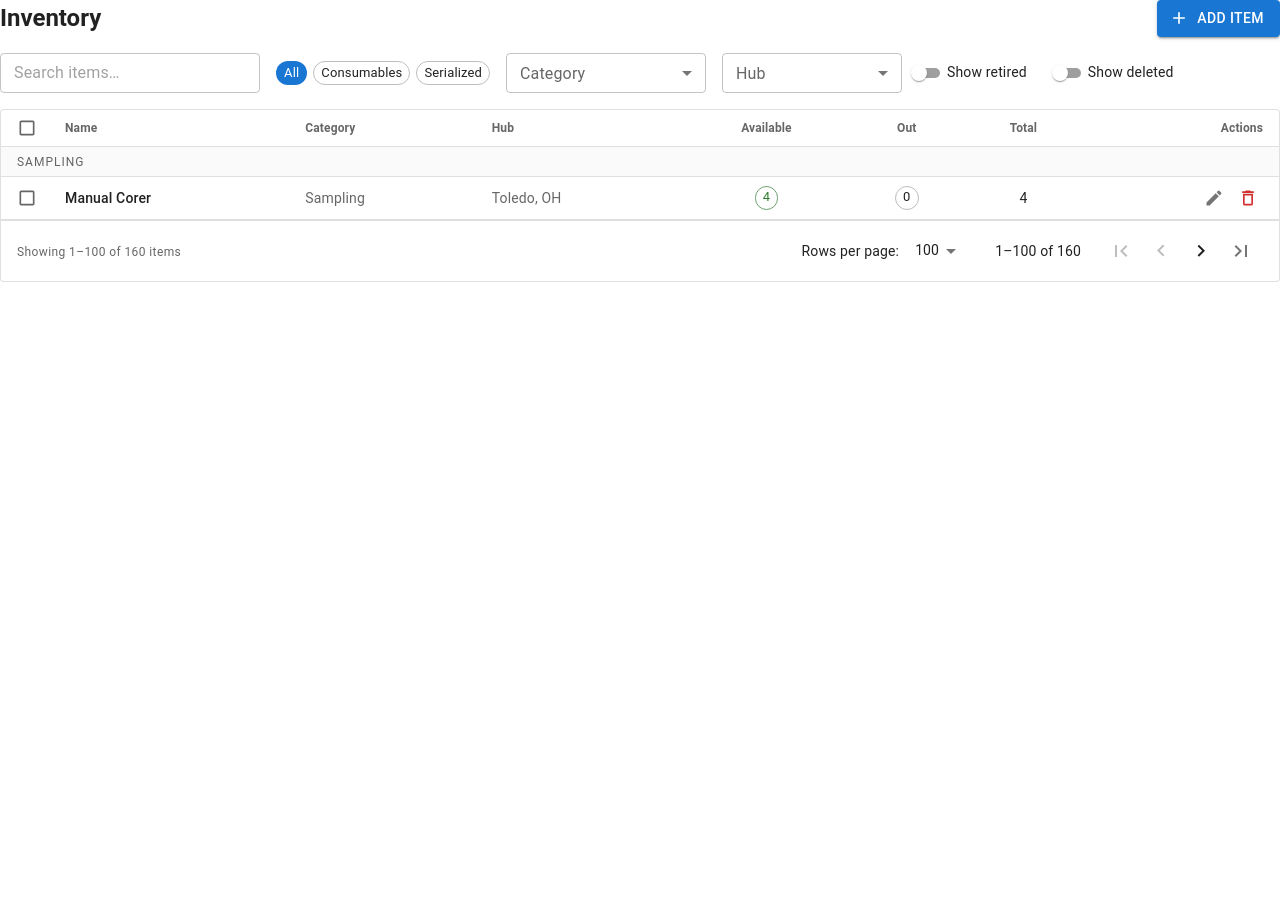
Test: PR-1a · Inventory list truth › clears the pin on the next search — it does not sit atop a list it is not in
Check: the text "Manual Corer" is shown, box [65,188,151,208]
Click the button "Add Item".
click(1219, 18)  # box [1157,0,1279,36]
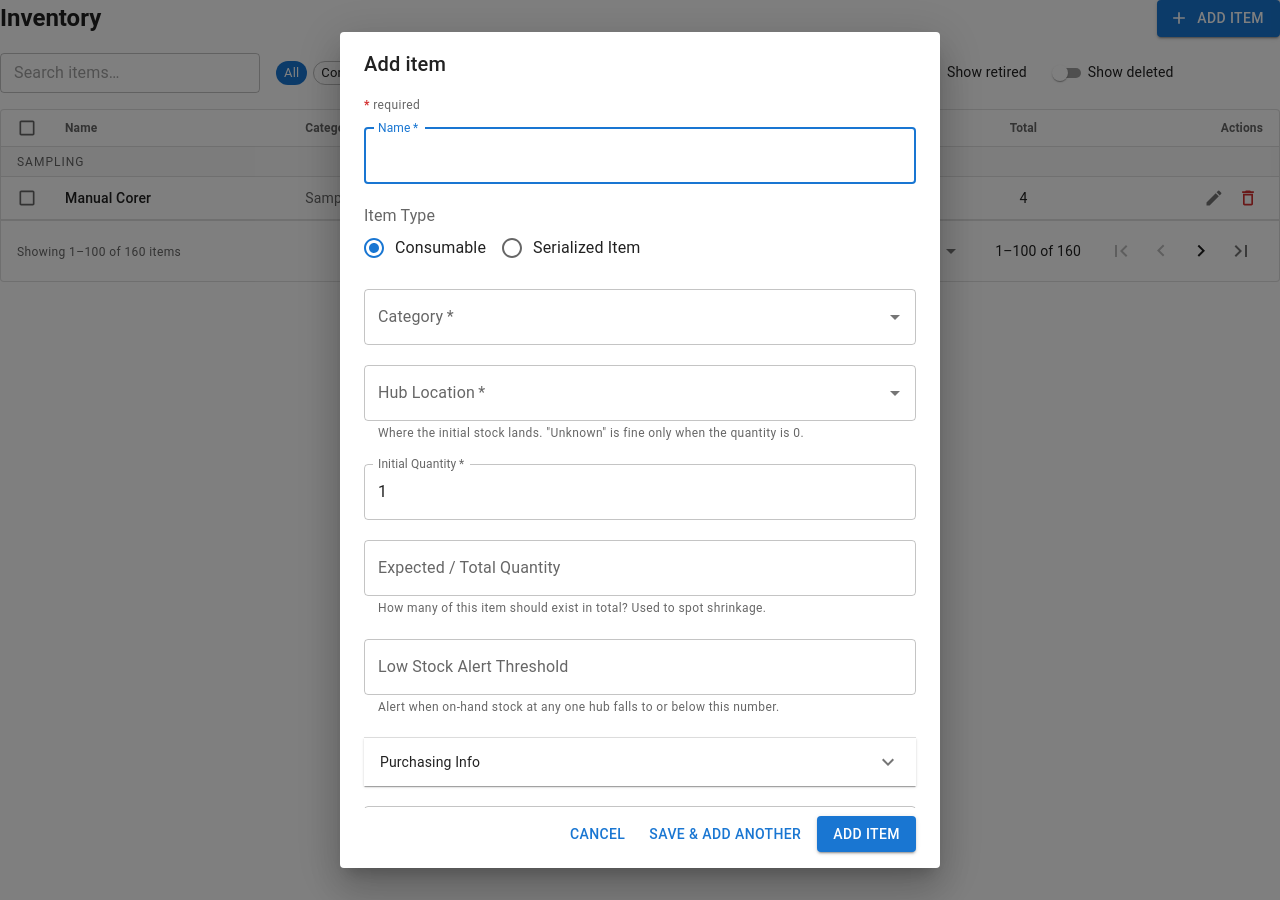
Type "Tedlar bag" into the field labelled "Name *".
click(640, 156); type("Tedlar bag")  # box [364,128,916,184]
Press the mouse on the dropdown labelled "Category *" at (625, 317), box [373,298,877,336]
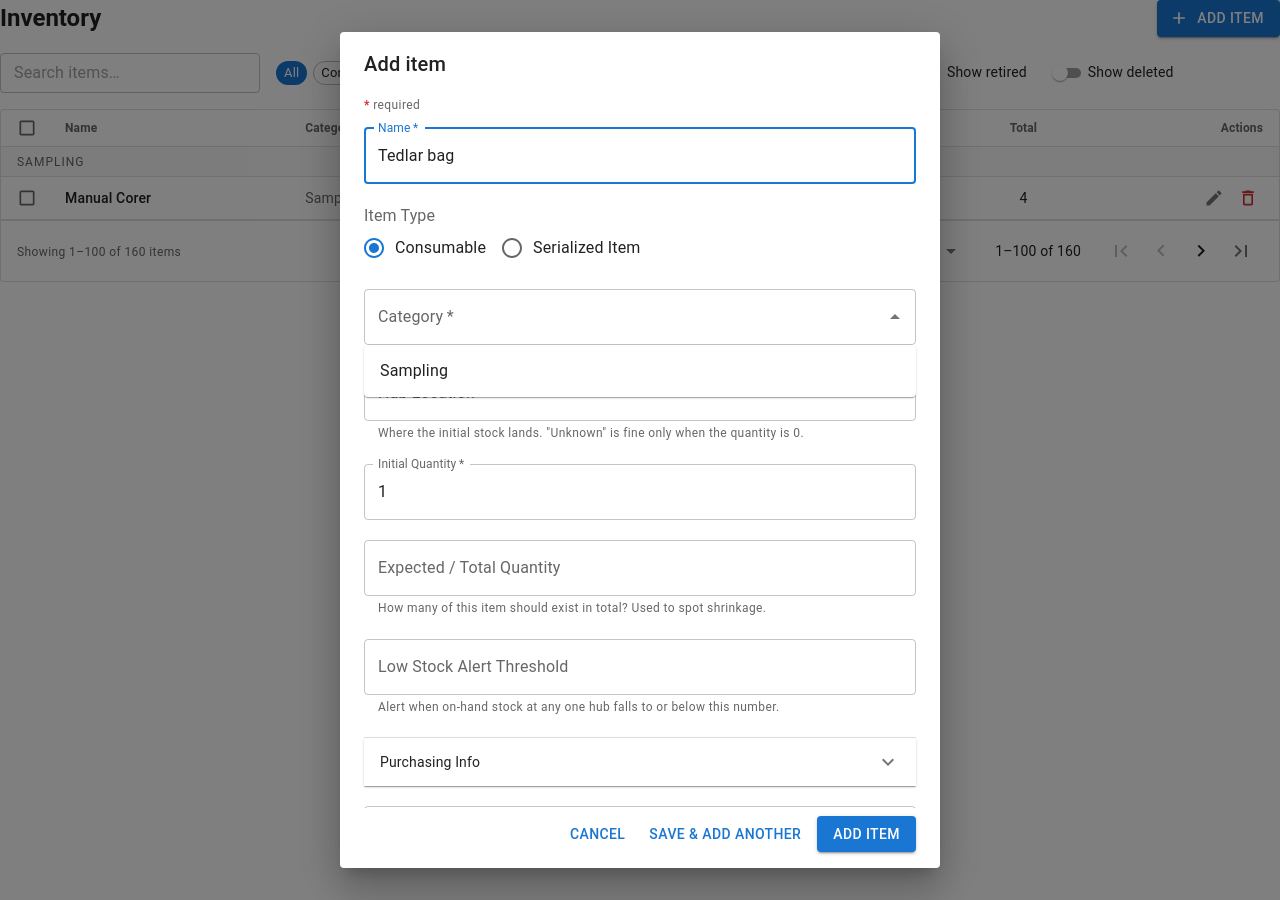
Click the option "Sampling".
click(414, 370)  # box [380,361,448,380]
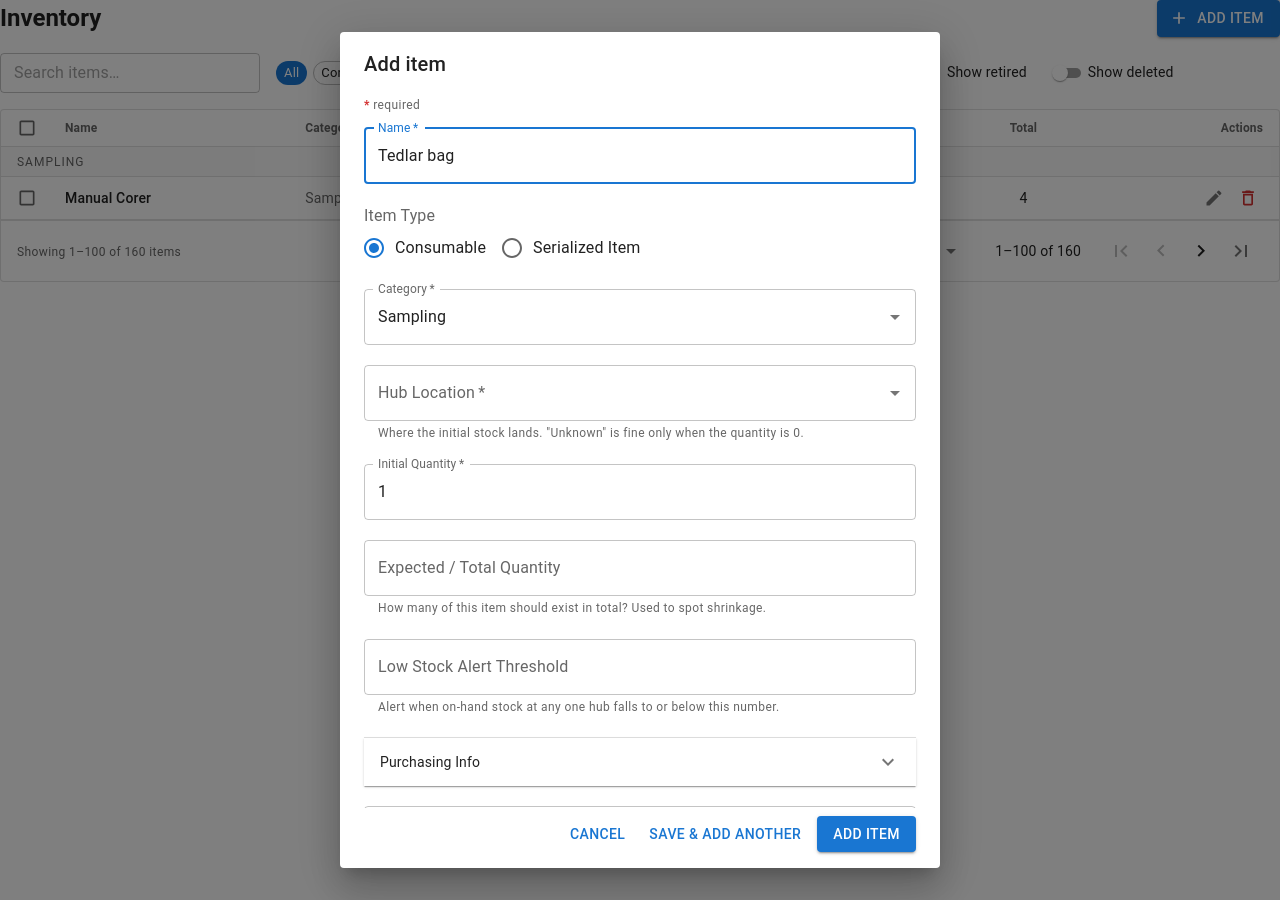
Replace the text in the number field labelled "Initial Quantity *" with "0" at (640, 492), box [364,464,916,520]
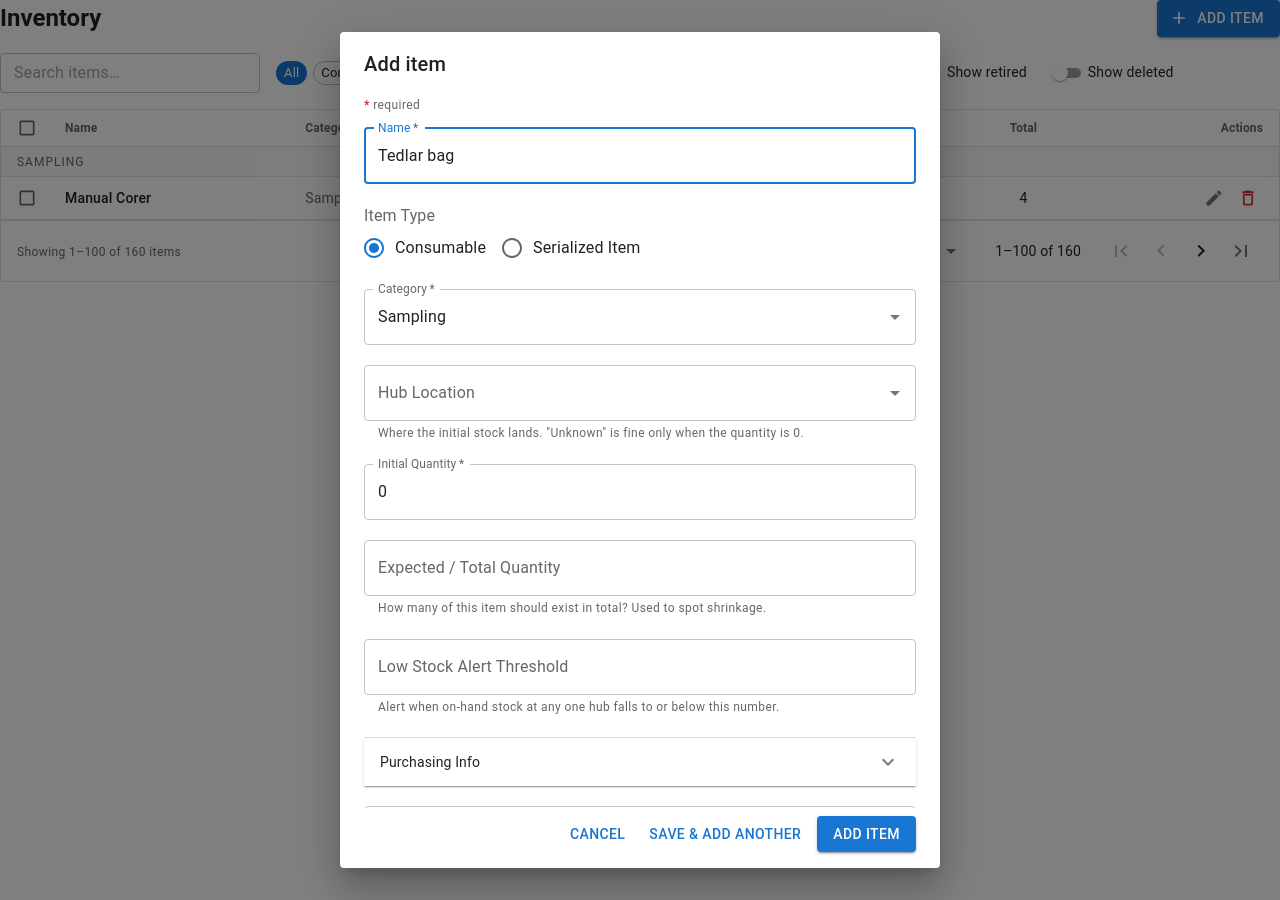
Click the button "Add item".
click(867, 834)  # box [817,816,916,852]
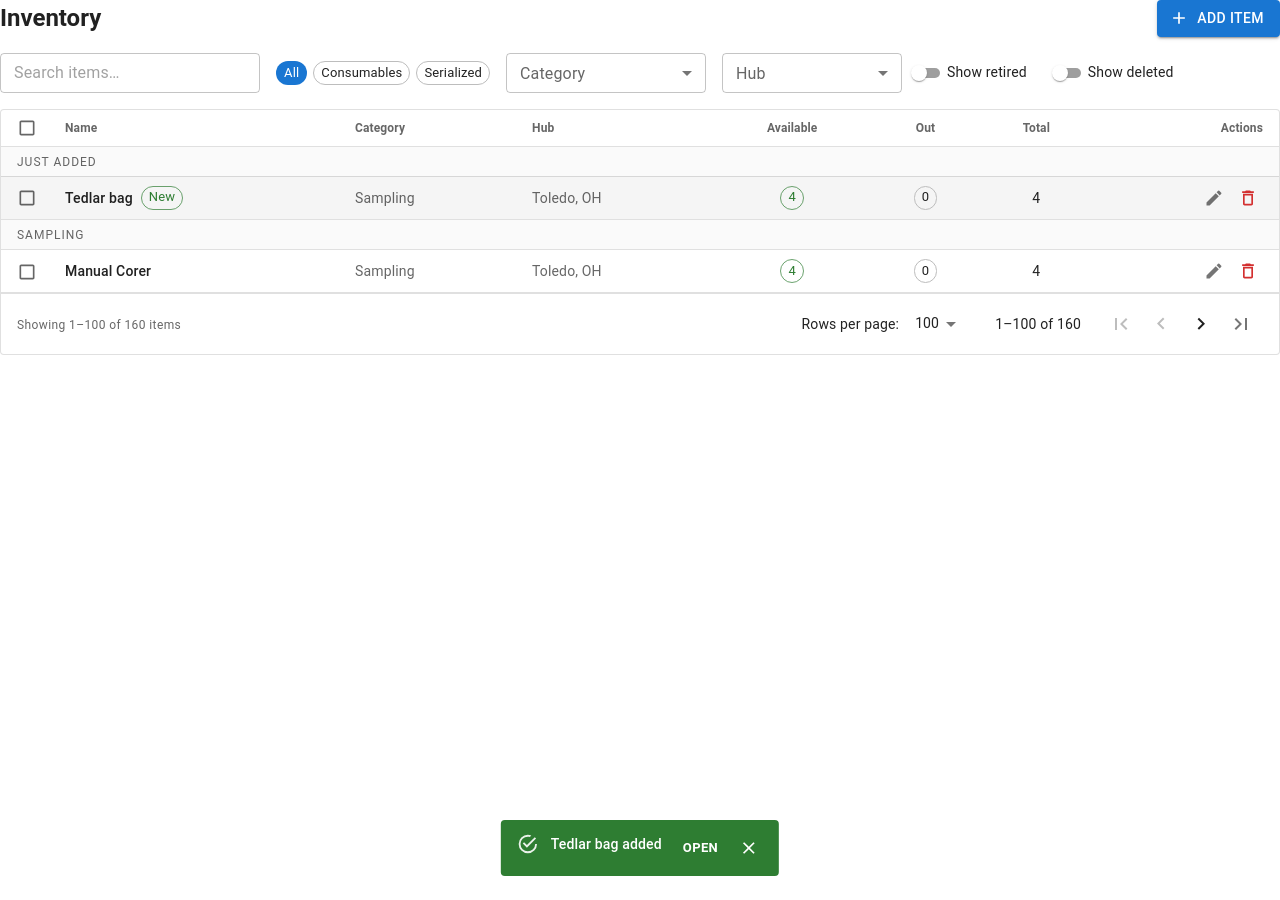
Check: the text "Just added" is shown, box [17,154,97,168]
Type "corer" into the field with placeholder "Search items…".
click(130, 72); type("corer")  # box [0,52,260,92]
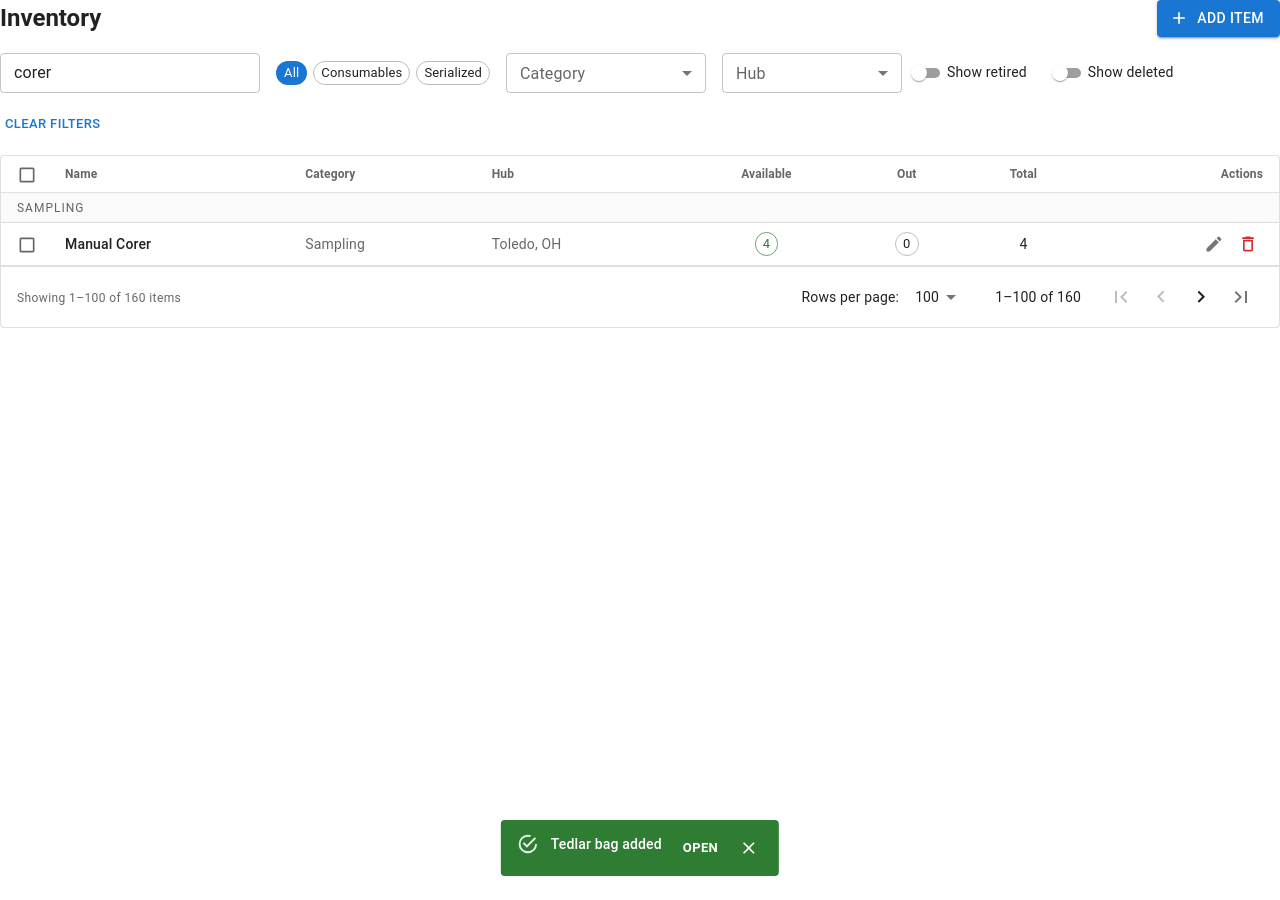
Check: the text "Just added" is gone
